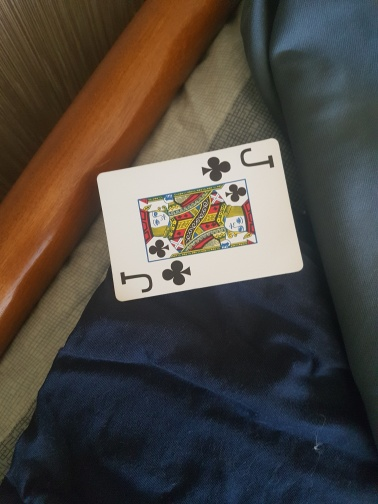jack: (96, 136, 305, 302)
